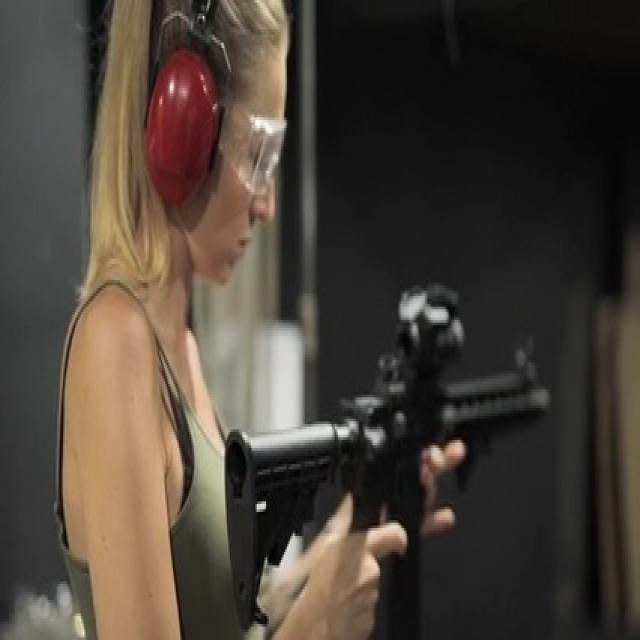Gun_Holder: (214, 288, 598, 640)
Person: (50, 0, 404, 640)
